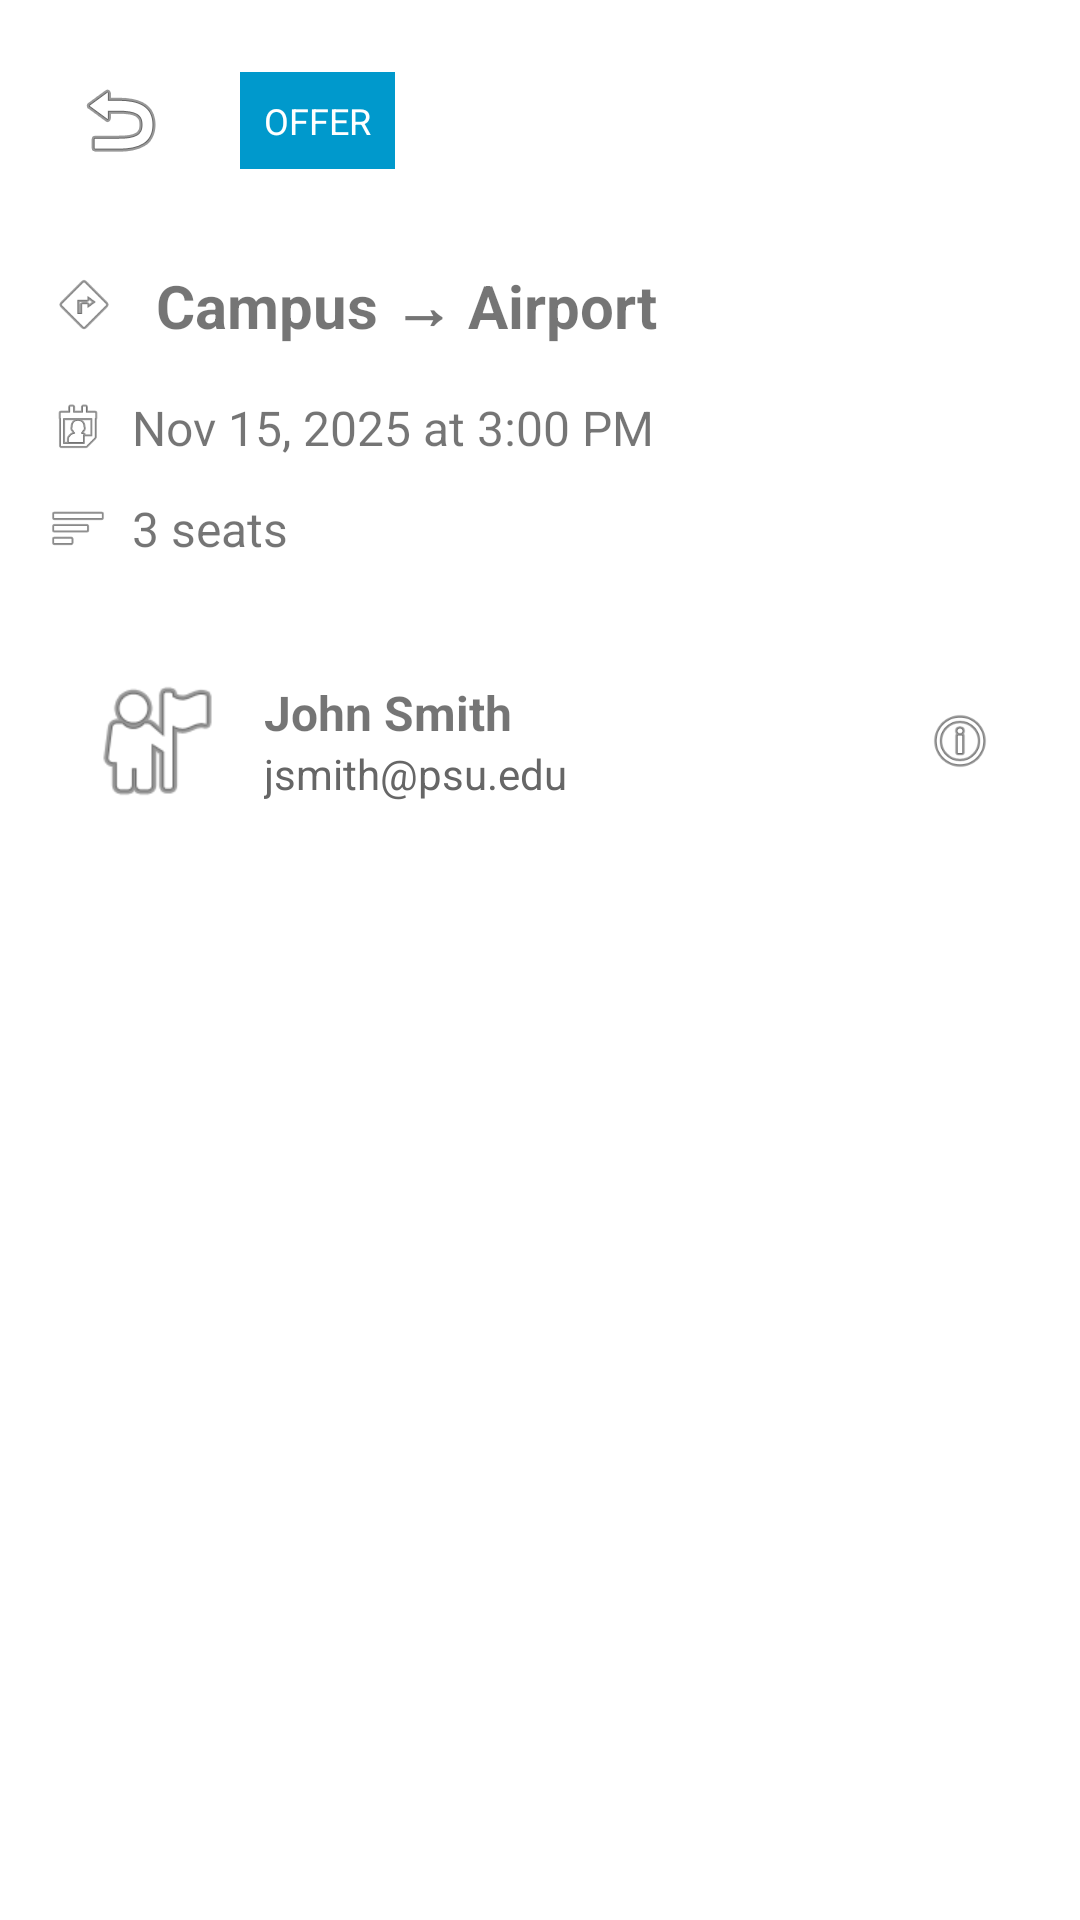

Icon click points for this 1080*1920 phone screenshot, format [x,y]:
Date and time: [78,426]
Navigate back: [121,120]
Route information: [84,304]
